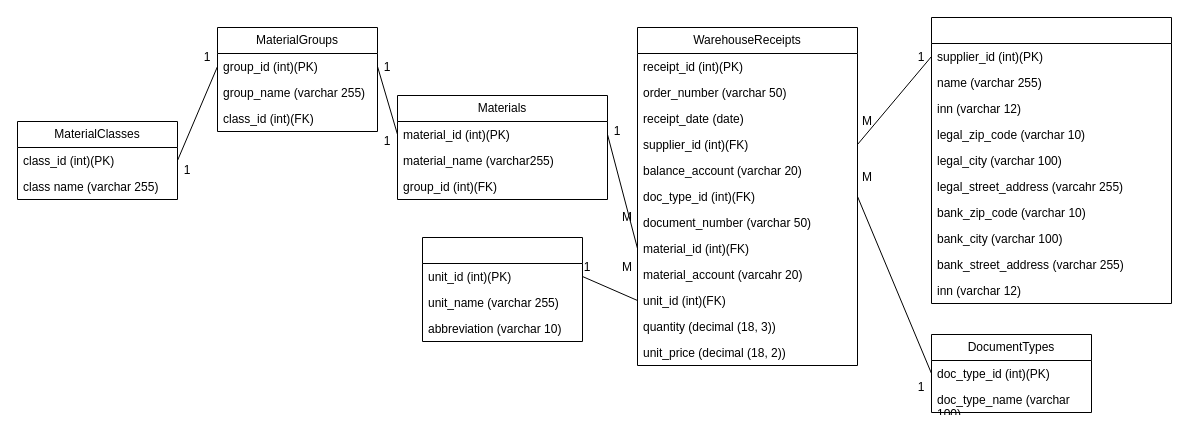
Image size: 1189x438. Some labels were removed from this diagram. Here are the shapes that lost their labels. From the top down, the box of each, then its label:
(930, 16, 1172, 304): Suppliers
(422, 236, 582, 342): UnitsOfMeasure
